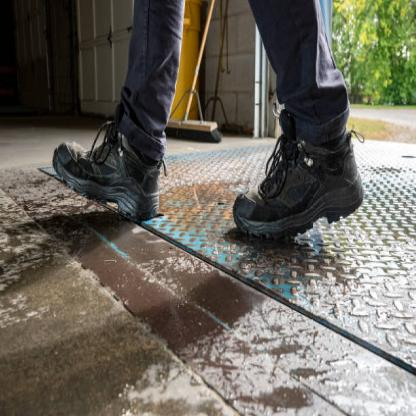bota: (232, 124, 366, 243), (50, 111, 162, 222)
